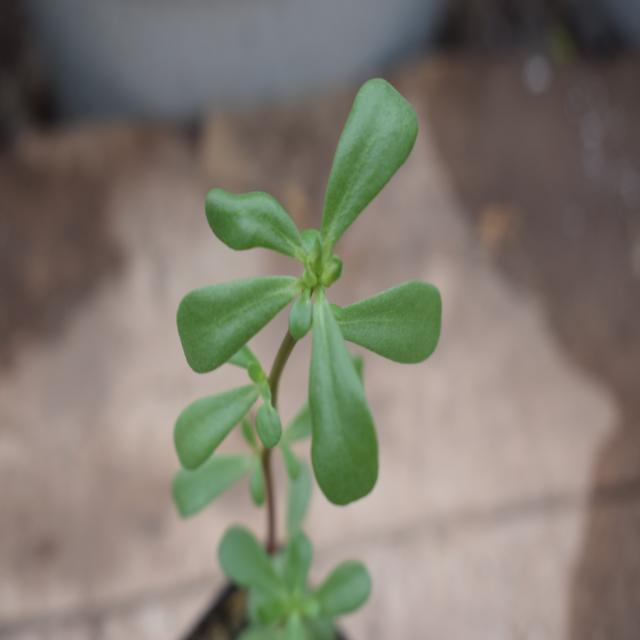purslane: (155, 63, 444, 576)
